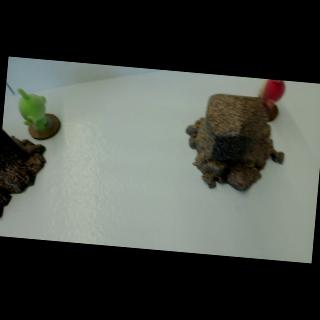teletubby: (18, 89, 47, 131), (259, 79, 285, 110)
